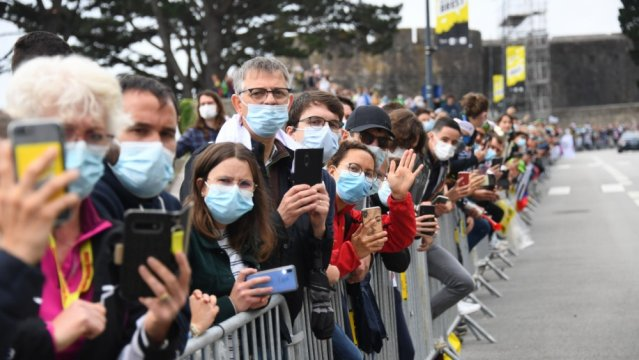with_incorrect_mask: (246, 72, 293, 140)
with_mask: (121, 109, 176, 196), (205, 166, 256, 225), (300, 109, 340, 163), (340, 152, 372, 203)
